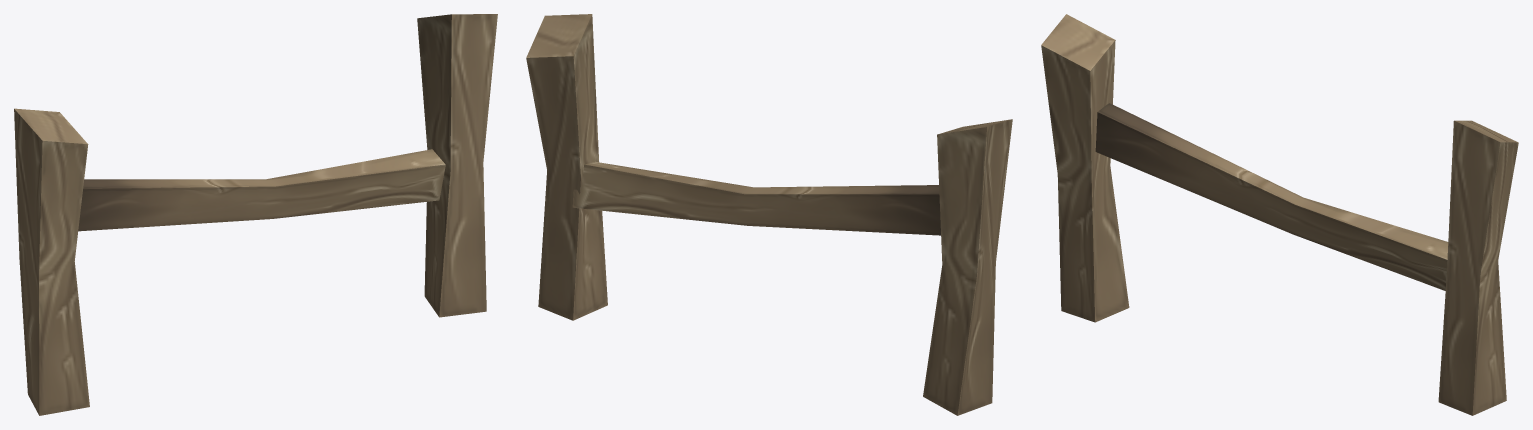
File: Egypt_Village_Props_13.FBX
3 renders of one model, left to right at view 1: azimuth 30°, elevation 25°; view 2: azimuth 150°, elevation 25°; view 3: azimuth 330°, elevation 25°, orthographic. The views are drawn at different scales.
Parts seen in each view (by area): view 1: Egypt_Village_Props_13; view 2: Egypt_Village_Props_13; view 3: Egypt_Village_Props_13.
Part boxes in pixels (x1,y1,x2,y2): Egypt_Village_Props_13: [14, 14, 497, 415]; Egypt_Village_Props_13: [526, 14, 1012, 415]; Egypt_Village_Props_13: [1041, 14, 1518, 415].
Bounding box in the file's own units: 246 × 150 × 36.85.
